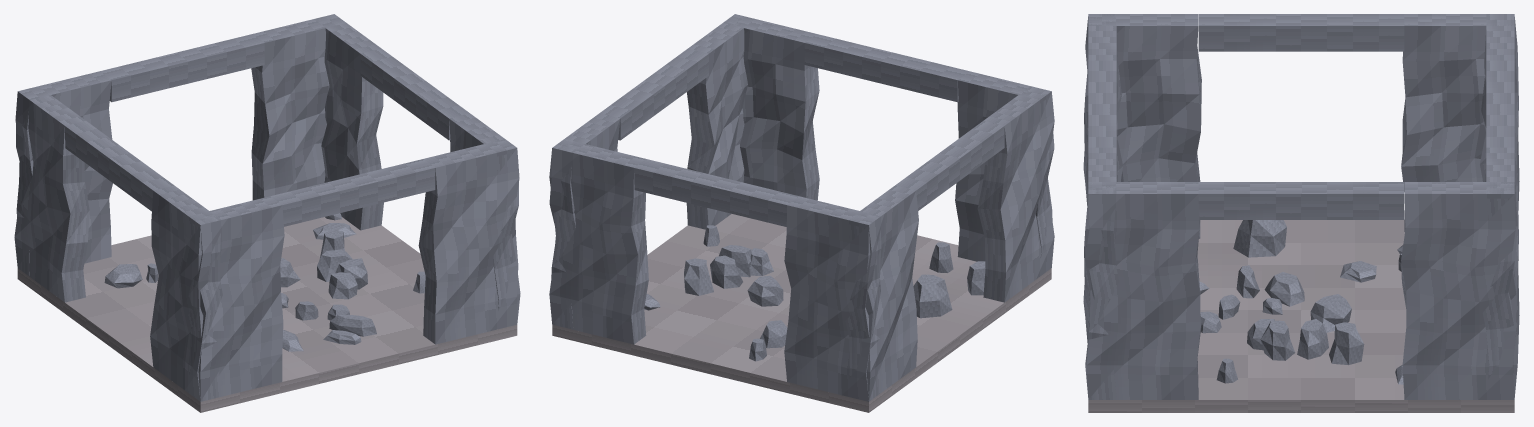
Rendered from cave-and-crystal-networks-collapsed-chamber-ccc811dd.glb.
3 renders of one model, left to right at view 1: azimuth 30°, elevation 25°; view 2: azimuth 150°, elevation 25°; view 3: azimuth 270°, elevation 25°, orthographic. The views are drawn at different scales.
Parts seen in each view (by area): view 1: collapsed-chamber; view 2: collapsed-chamber; view 3: collapsed-chamber.
Part boxes in pixels (box(x1,y1,x2,y2)): collapsed-chamber: box(14, 14, 520, 412); collapsed-chamber: box(549, 14, 1054, 412); collapsed-chamber: box(1083, 14, 1519, 412).
Bounding box in the file's own units: 6.14 × 3.4 × 6.14.
2 materials, 2 textured.
